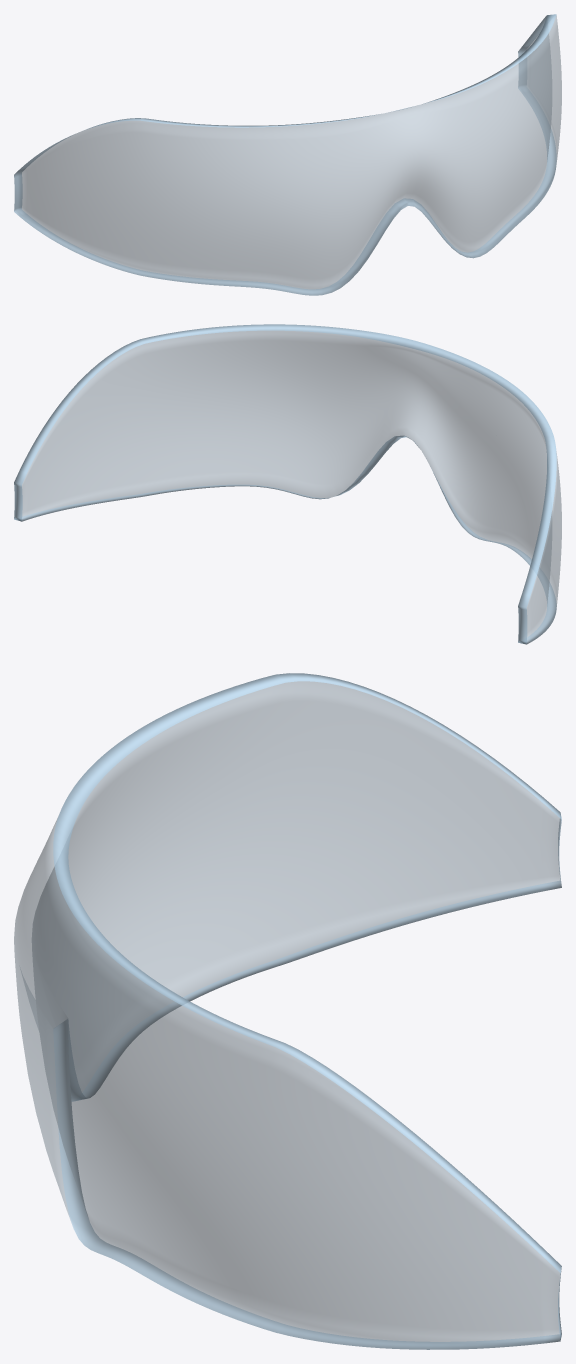
File: polycarbonate-goggles.glb
3 views of the same model, one above another, from view 1: azimuth 30°, elevation 25°; view 2: azimuth 150°, elevation 25°; view 3: azimuth 270°, elevation 25° (orthographic). The views are drawn at different scales.
Visible parts, largest first — view 1: PolycarbonateLens_Shield; view 2: PolycarbonateLens_Shield; view 3: PolycarbonateLens_Shield.
Part boxes in pixels (x1,y1,x2,y2): PolycarbonateLens_Shield: [14, 14, 561, 295]; PolycarbonateLens_Shield: [14, 324, 561, 644]; PolycarbonateLens_Shield: [14, 673, 561, 1349].
Size of the model in its own units: 0.1724 by 0.0557 by 0.0866.
